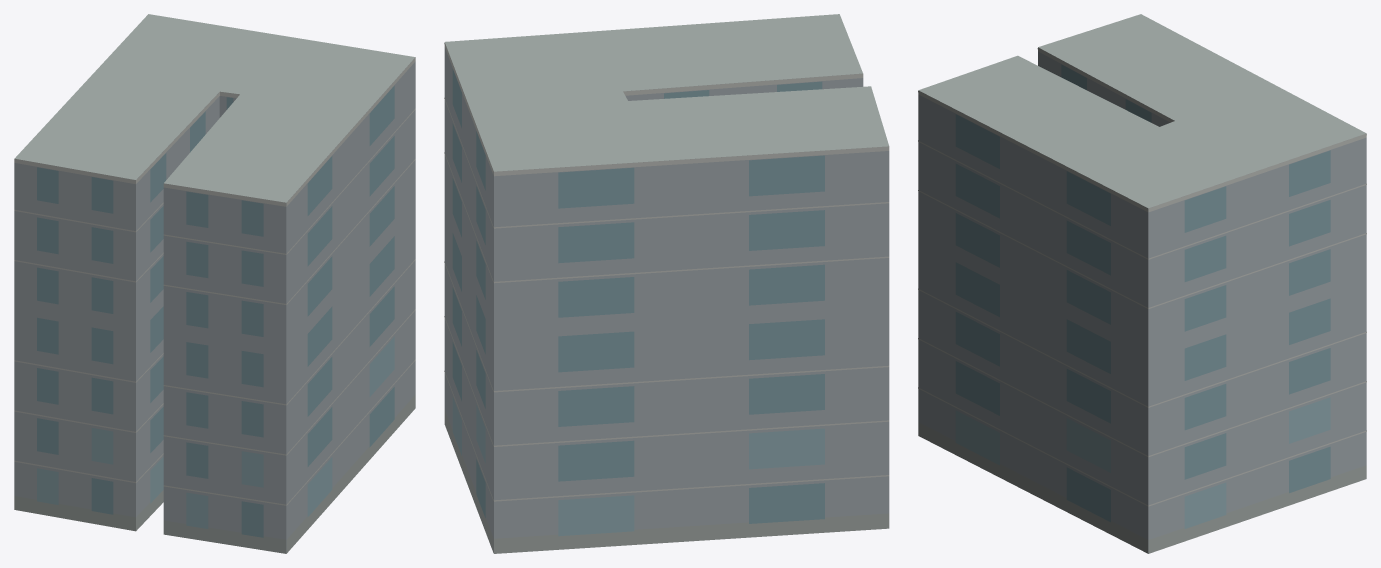
File: survey-upis-32731316.glb
3 renders of one model, left to right at view 1: azimuth 30°, elevation 25°; view 2: azimuth 150°, elevation 25°; view 3: azimuth 270°, elevation 25°, orthographic. The views are drawn at different scales.
Parts seen in each view (by area): view 1: survey-upis-32731316.tmp; view 2: survey-upis-32731316.tmp; view 3: survey-upis-32731316.tmp.
Part boxes in pixels (x1,y1,x2,y2): survey-upis-32731316.tmp: (14,14,415,553); survey-upis-32731316.tmp: (444,14,889,553); survey-upis-32731316.tmp: (918,14,1366,553).
Size of the model in its own units: 24.75 by 20.5 by 24.13.
